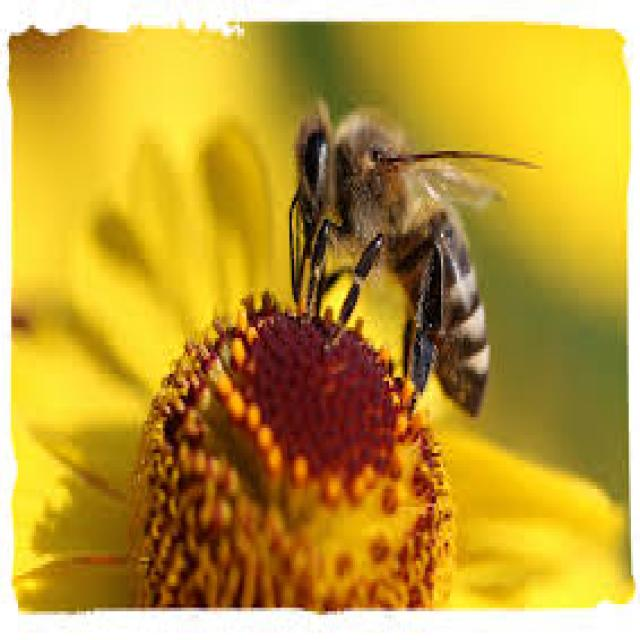Bees: (286, 98, 544, 424)
